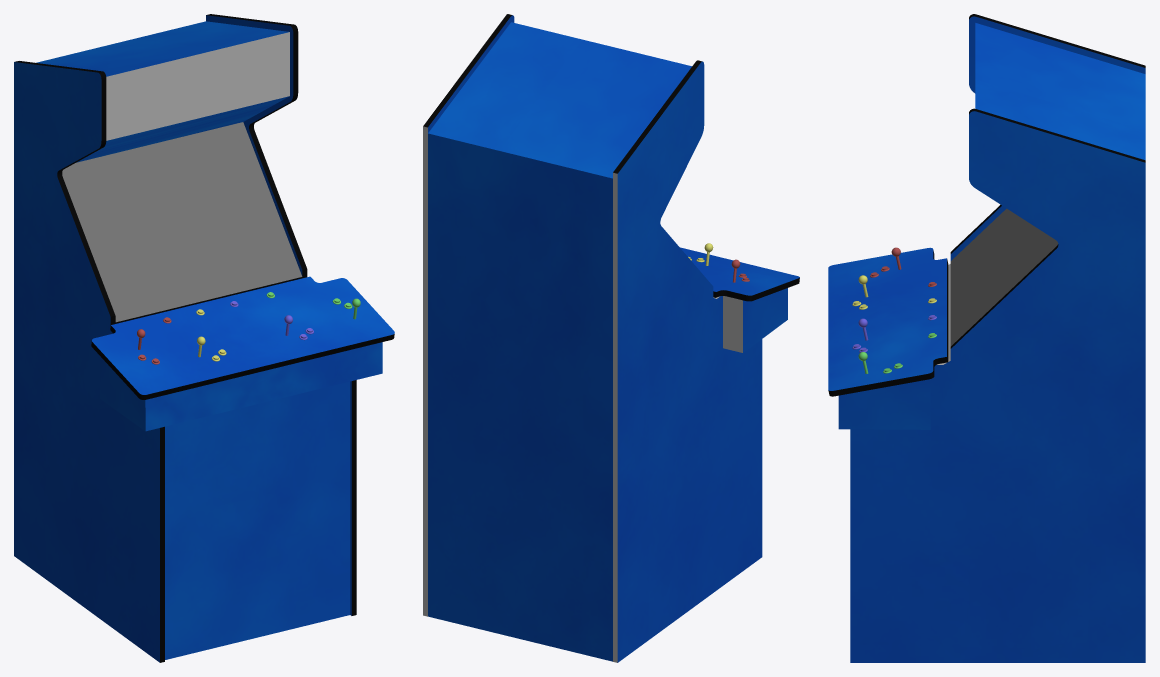
The model's file is GI_Joe04.fbx.
3 renders of one model, left to right at view 1: azimuth 30°, elevation 25°; view 2: azimuth 150°, elevation 25°; view 3: azimuth 270°, elevation 25°, orthographic. The views are drawn at different scales.
Parts seen in each view (by area): view 1: GI_Joe; view 2: GI_Joe; view 3: GI_Joe.
Part boxes in pixels (left/top/right/bottom): GI_Joe: left=14, top=14, right=394, bottom=662; GI_Joe: left=423, top=14, right=799, bottom=662; GI_Joe: left=828, top=14, right=1145, bottom=662.
Size of the model in its own units: 127 by 260 by 136.
9 materials, 1 textured.
